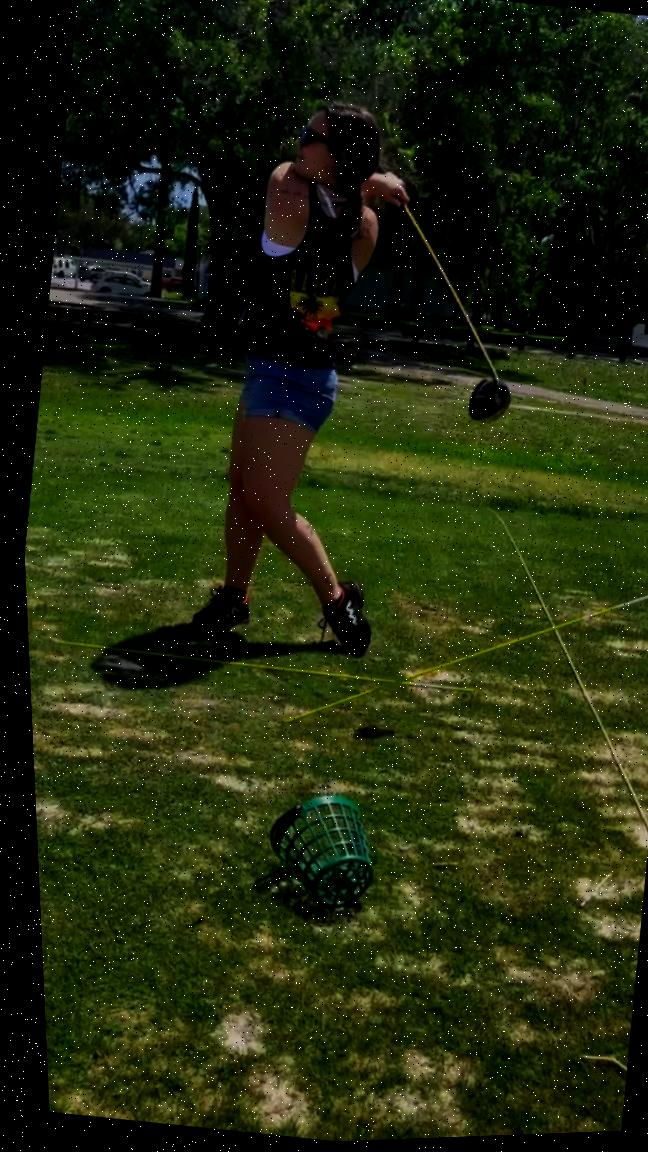ClubHead: (449, 339, 522, 449)
